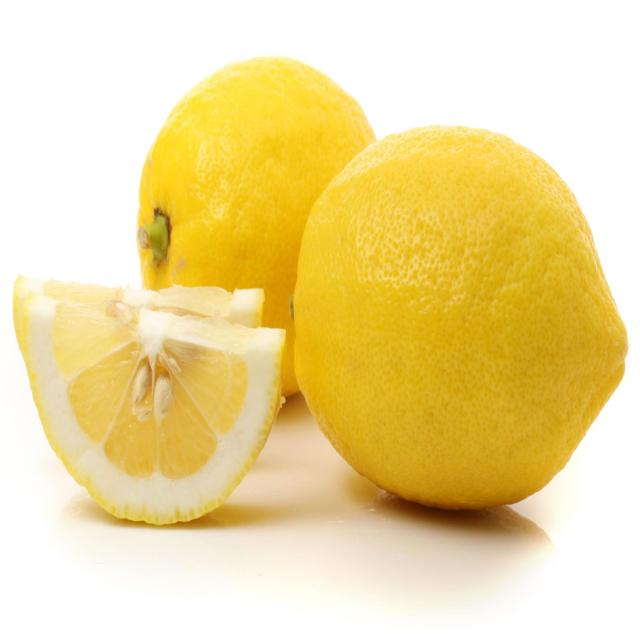lemon: (288, 115, 630, 518), (4, 264, 288, 532)
